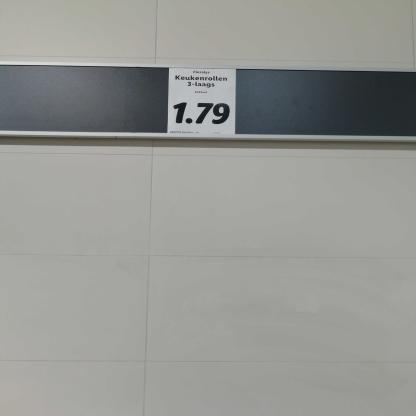prtg: (168, 69, 237, 135)
